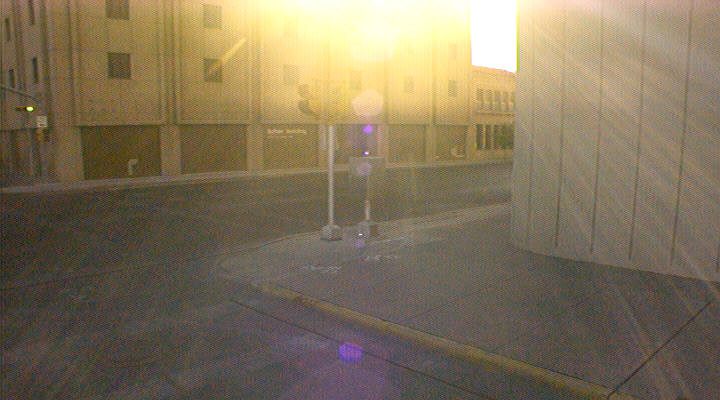Ramp: (193, 234, 315, 297), (6, 186, 71, 196)
